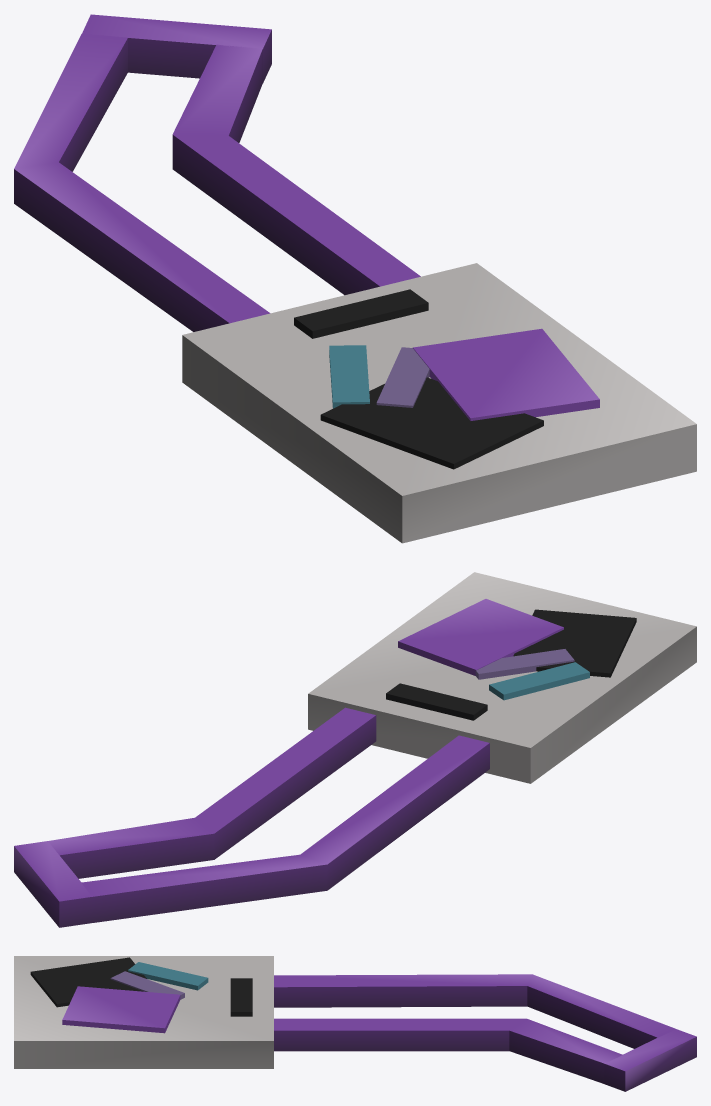
Rendered from Pickup-001-Pass.fbx.
3 views of the same model, one above another, from view 1: azimuth 30°, elevation 25°; view 2: azimuth 150°, elevation 25°; view 3: azimuth 270°, elevation 25° (orthographic). The views are drawn at different scales.
Visible parts, largest first — view 1: PICKUP-Type01-Pass; view 2: PICKUP-Type01-Pass; view 3: PICKUP-Type01-Pass.
Boxes of the visible parts, box(x1,y1,x2,y2) form: PICKUP-Type01-Pass: box(14, 14, 696, 543); PICKUP-Type01-Pass: box(14, 572, 696, 927); PICKUP-Type01-Pass: box(14, 956, 696, 1091).
Size of the model in its own units: 2.84 by 0.3922 by 7.34.
